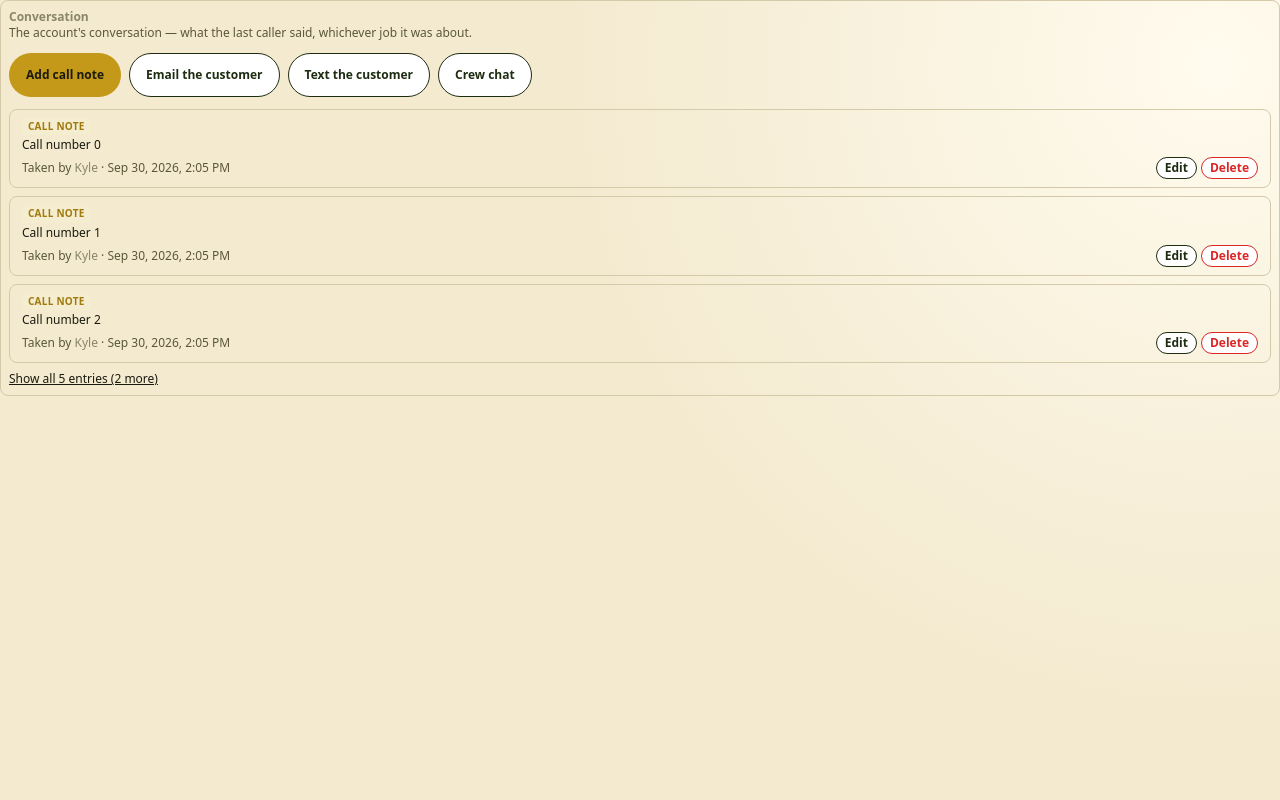
the job drawer's view › shows the newest few and 'Show all'; the account page shows every entry
Expected: the number of list items is 3, top-left (9, 109), bottom-right (1271, 188); top-left (9, 196), bottom-right (1271, 276); top-left (9, 284), bottom-right (1271, 363)
Click the button "Show all 5 entries (2 more)": (84, 379) top-left (9, 371), bottom-right (158, 387)
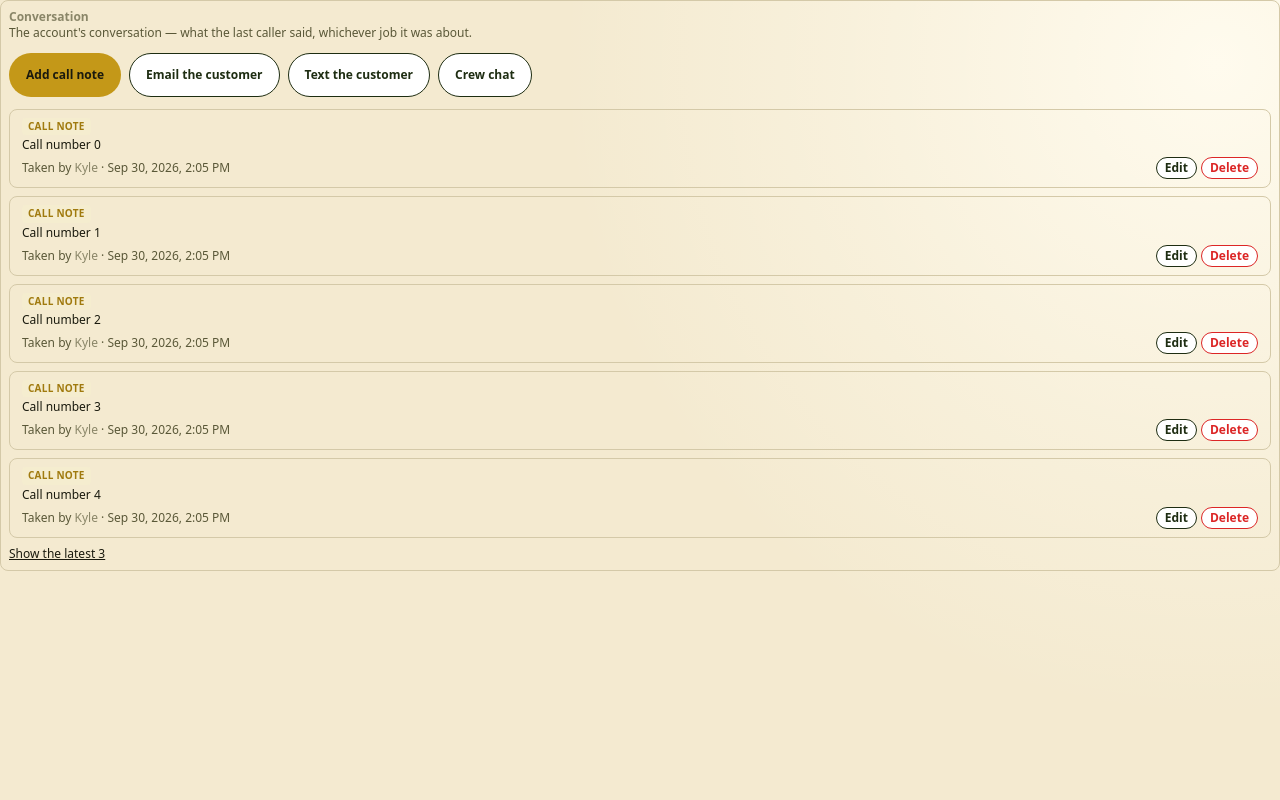
Expected: the number of list items is 5, top-left (9, 109), bottom-right (1271, 188); top-left (9, 196), bottom-right (1271, 276); top-left (9, 284), bottom-right (1271, 363); top-left (9, 371), bottom-right (1271, 450); top-left (9, 458), bottom-right (1271, 538)
